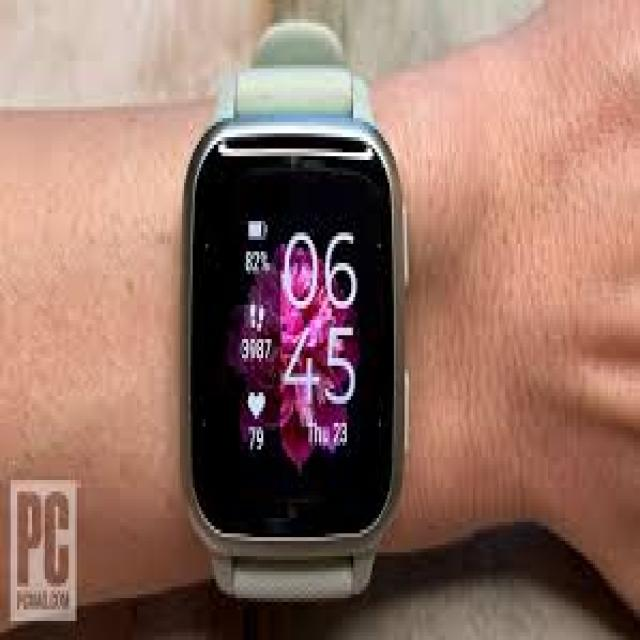objects: (180, 13, 416, 607)
